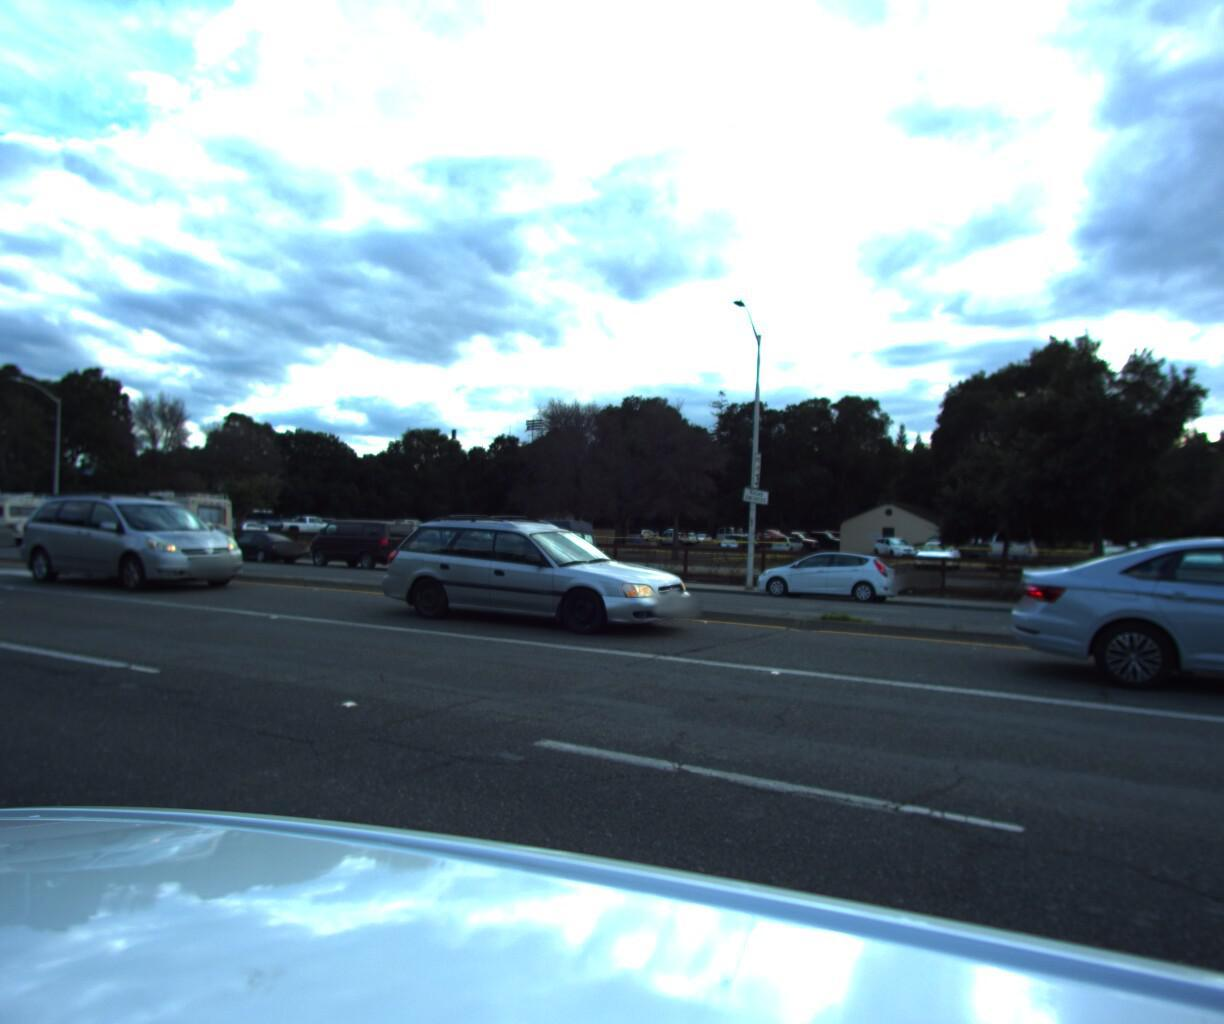car: (372, 498, 719, 636), (1003, 518, 1224, 733), (5, 485, 255, 592), (449, 510, 608, 582), (745, 542, 906, 605), (296, 513, 416, 570), (203, 524, 305, 558), (0, 490, 1, 566)
other_vehicle: (75, 482, 231, 557), (0, 481, 57, 543)
